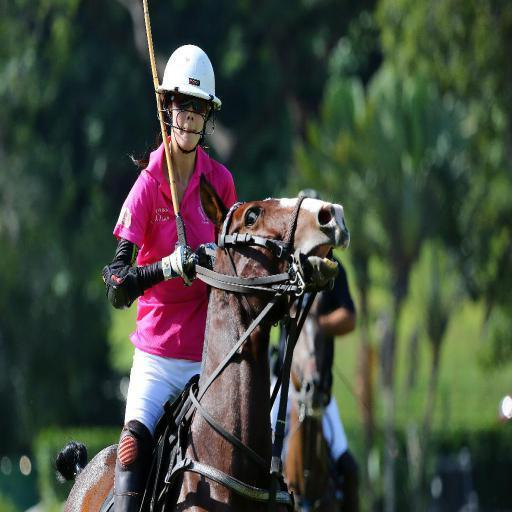horse: (55, 172, 352, 512), (272, 293, 336, 507)
